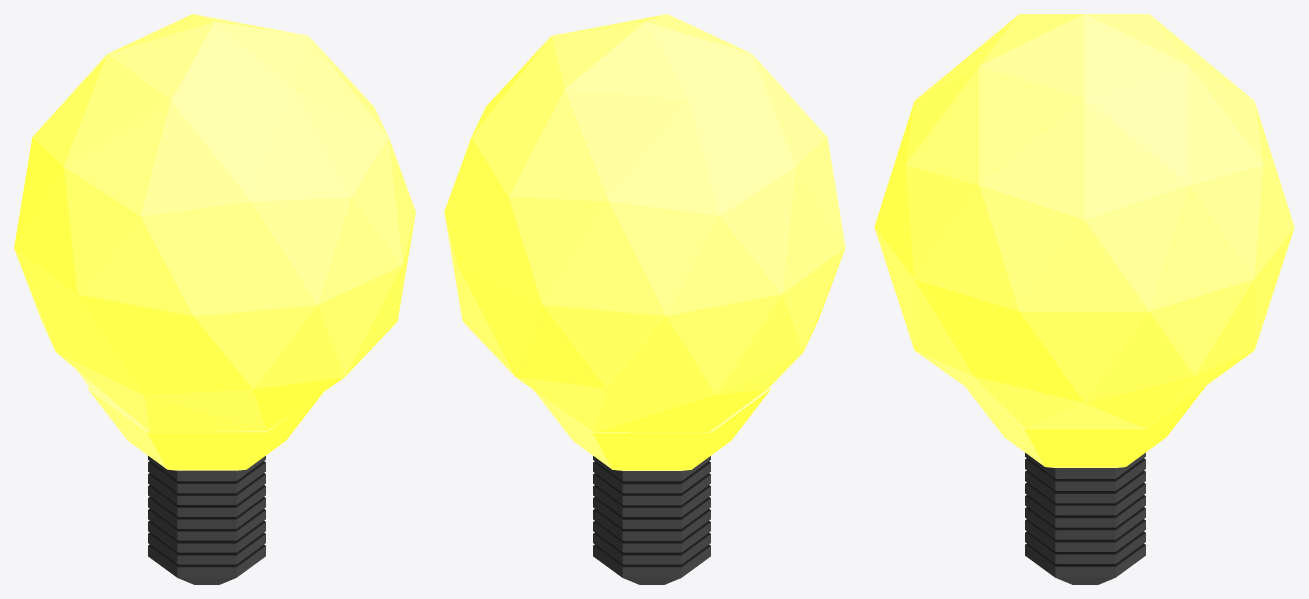
Rendered from ILAWBUKAS.fbx.
The picture shows the model from 3 angles, left to right: view 1: azimuth 30°, elevation 25°; view 2: azimuth 150°, elevation 25°; view 3: azimuth 270°, elevation 25°; orthographic projection. The views are drawn at different scales.
Visible parts, largest first — view 1: Cylinder.042; view 2: Cylinder.042; view 3: Cylinder.042.
Boxes of the visible parts, x1=… form: Cylinder.042: x1=14, y1=14, x2=415, y2=584; Cylinder.042: x1=444, y1=14, x2=845, y2=584; Cylinder.042: x1=874, y1=14, x2=1294, y2=584.
Bounding box in the file's own units: 139 × 217 × 146.
